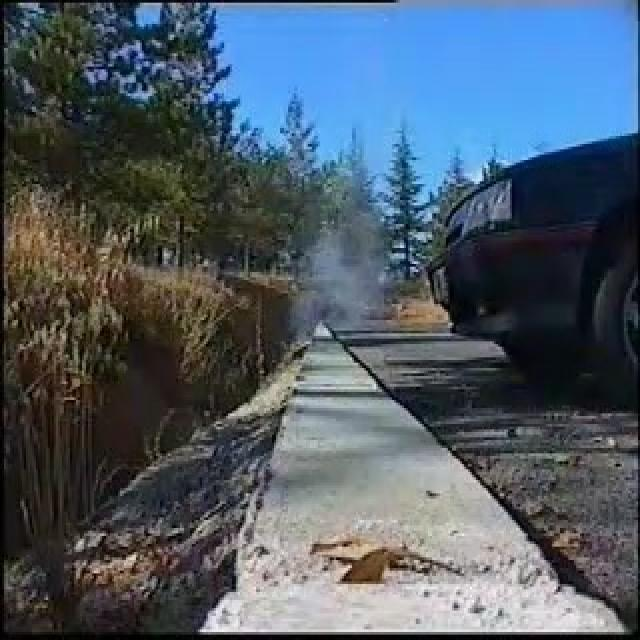smoke: (291, 260, 355, 342)
